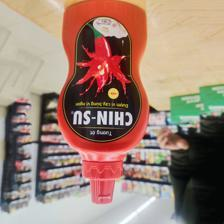Chinsu: (56, 1, 151, 206)
